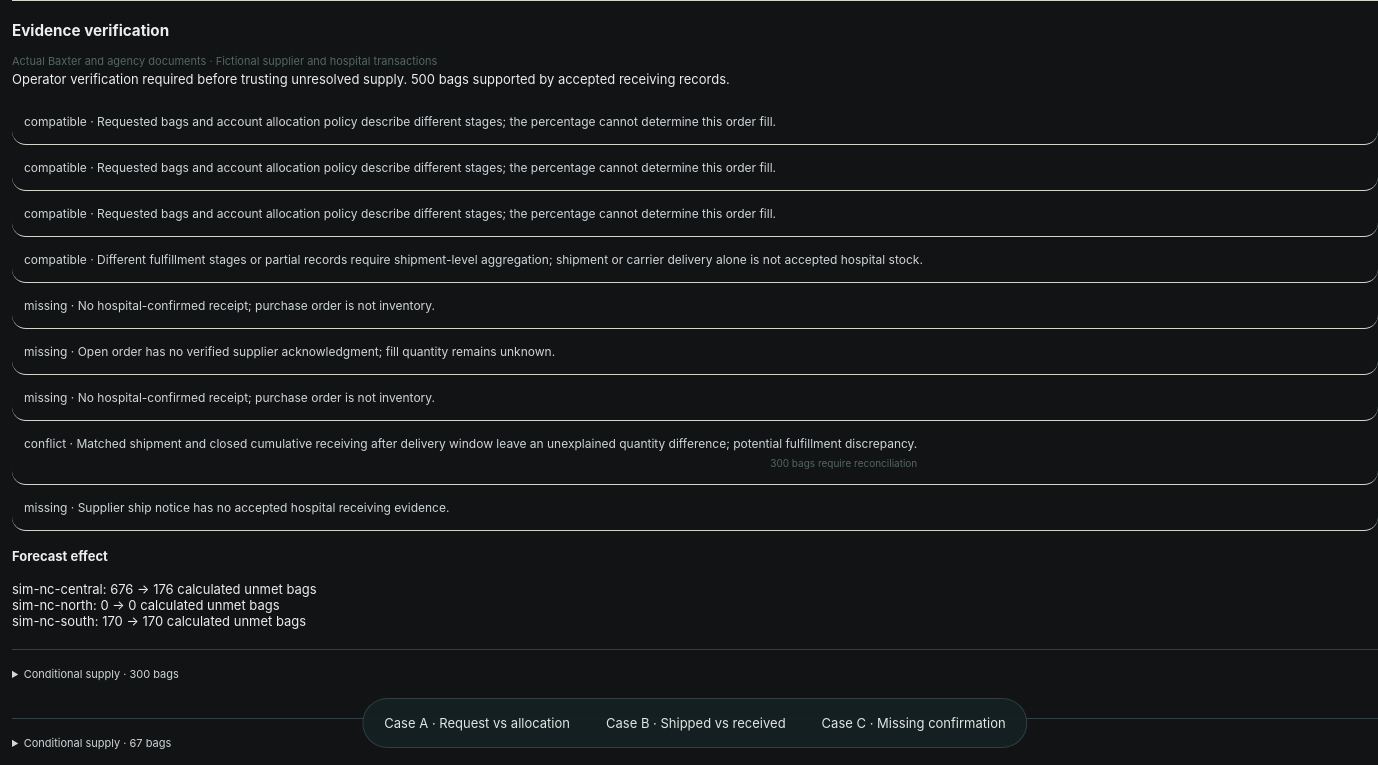
Test: inspects genuine backend discrepancy output and separates conditional supply
Step 1. Click the heading "conflict · Matched shipment" → (471, 452), box [24,436,917,469]
(page scrolled)
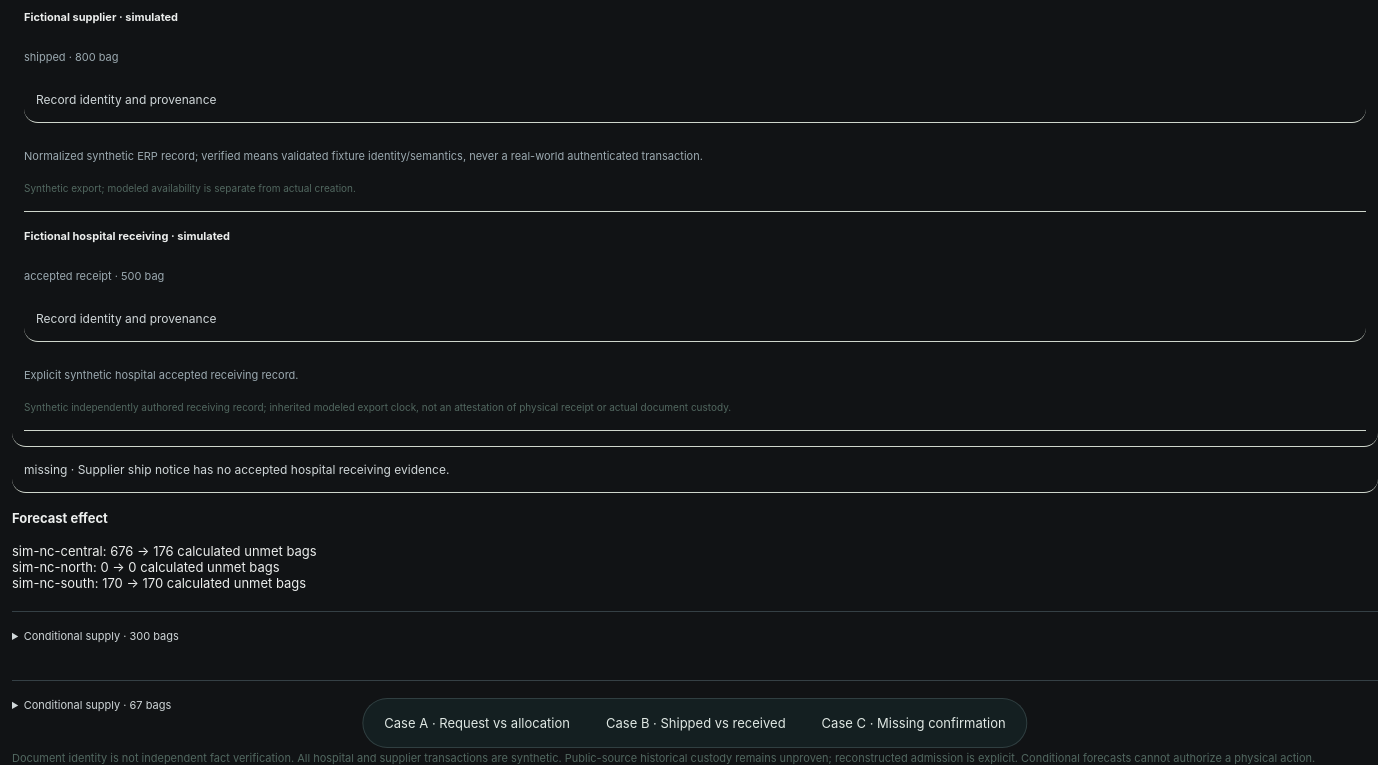
Step 2. Click the heading "Conditional supply · 300 bags" → (101, 636), box [24,629,179,643]
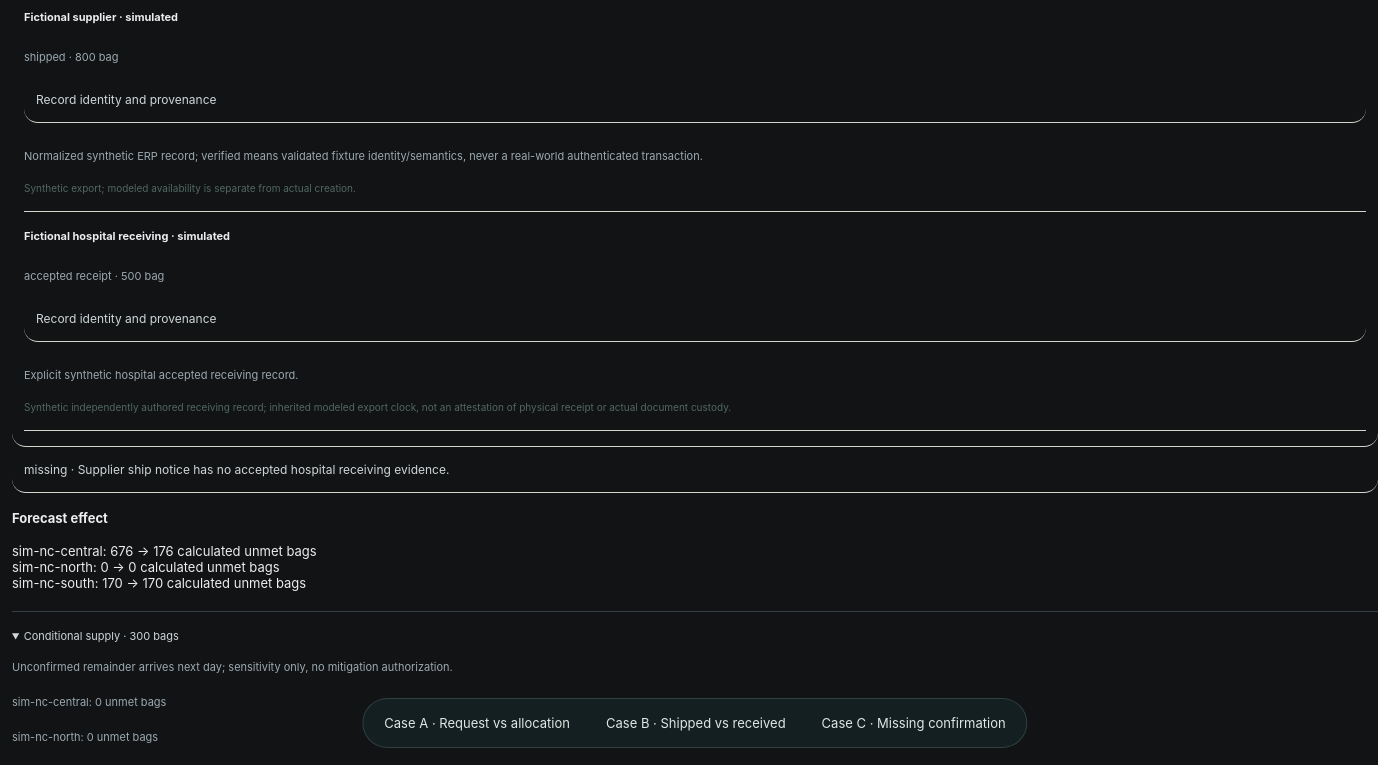
expect the text "sensitivity only, no mitigation authorization" is shown: met, box [12,660,453,674]
expect the text "sim-nc-central: 0 unmet bags" is shown: met, box [12,695,166,709]
